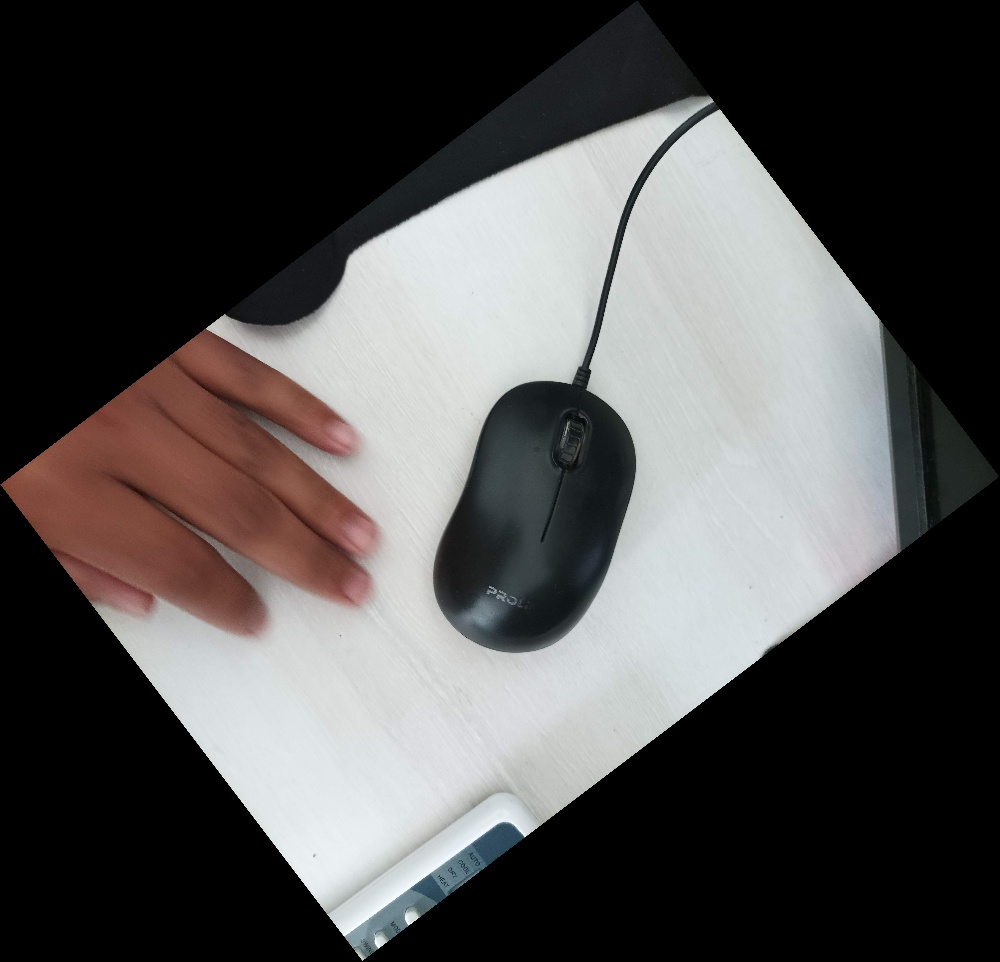mouse: (427, 373, 639, 656)
